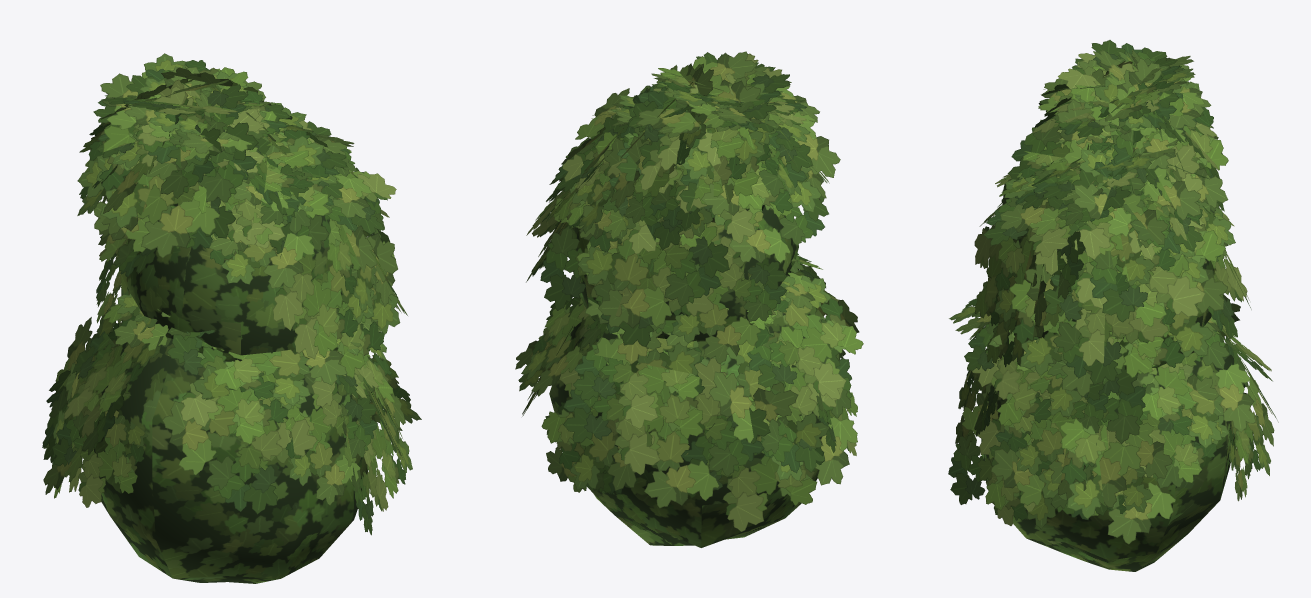
Rendered from bush_tall.glb.
The picture shows the model from 3 angles, left to right: view 1: azimuth 30°, elevation 25°; view 2: azimuth 150°, elevation 25°; view 3: azimuth 270°, elevation 25°; orthographic projection. The views are drawn at different scales.
Parts seen in each view (by area): view 1: model; view 2: model; view 3: model.
Part boxes in pixels (x1,y1,x2,y2): model: (42, 53, 421, 583); model: (515, 51, 863, 547); model: (948, 40, 1278, 571).
Size of the model in its own units: 1.32 by 1.77 by 1.18.
Materials: 2 (2 with a texture image).
